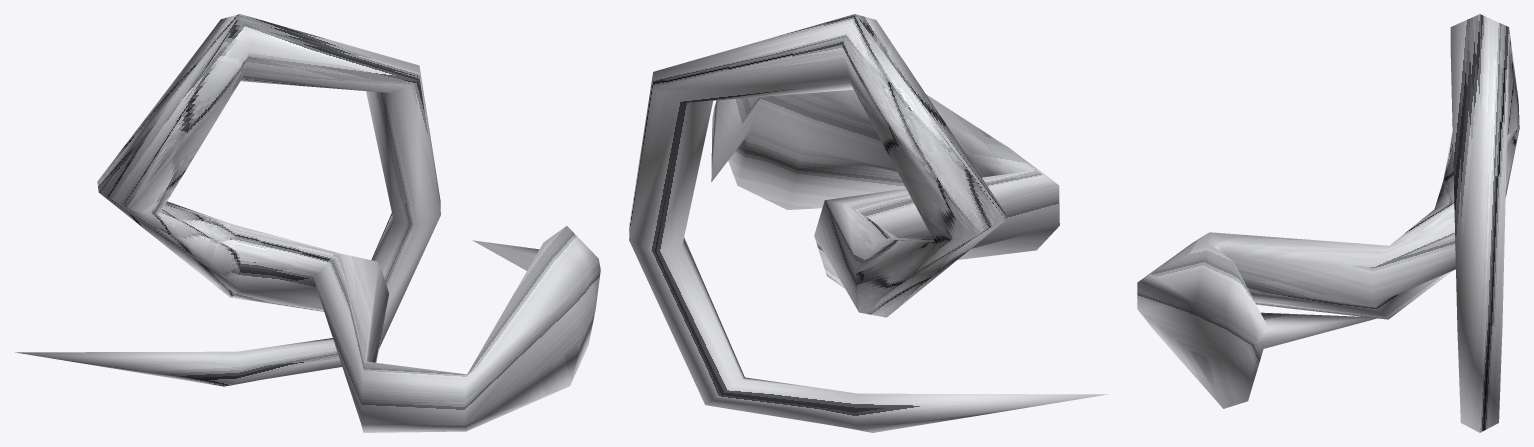
File: snake_000015.obj
3 renders of one model, left to right at view 1: azimuth 30°, elevation 25°; view 2: azimuth 150°, elevation 25°; view 3: azimuth 270°, elevation 25°, orthographic. The views are drawn at different scales.
Visible parts, largest first — view 1: Cylinder; view 2: Cylinder; view 3: Cylinder.
Part boxes in pixels (x1,y1,x2,y2): Cylinder: [15, 14, 600, 432]; Cylinder: [629, 14, 1107, 432]; Cylinder: [1137, 14, 1519, 432].
Bounding box in the file's own units: 2.91 × 2.24 × 2.17.
